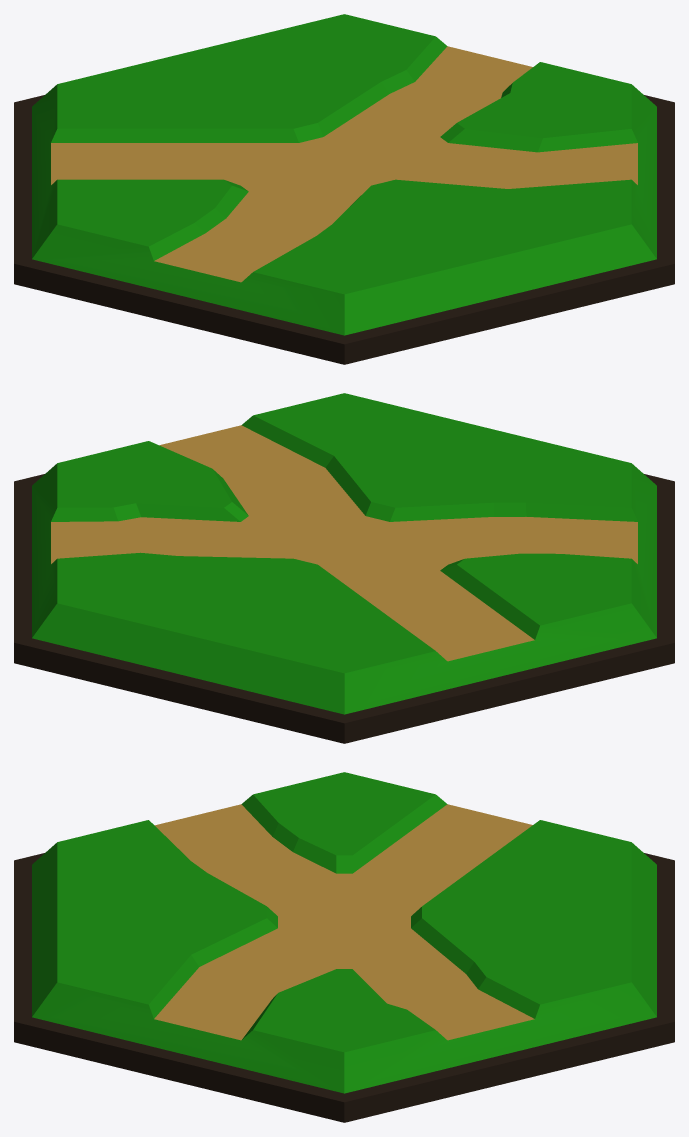
Rendered from roadCrossTile.fbx.
3 views of the same model, one above another, from view 1: azimuth 30°, elevation 25°; view 2: azimuth 150°, elevation 25°; view 3: azimuth 270°, elevation 25° (orthographic).
Parts seen in each view (by area): view 1: tail005; view 2: tail005; view 3: tail005.
Part boxes in pixels (x1,y1,x2,y2): tail005: (14, 14, 674, 364); tail005: (14, 393, 674, 743); tail005: (14, 772, 674, 1122).
Size of the model in its own units: 47.1 by 3.36 by 40.79.
